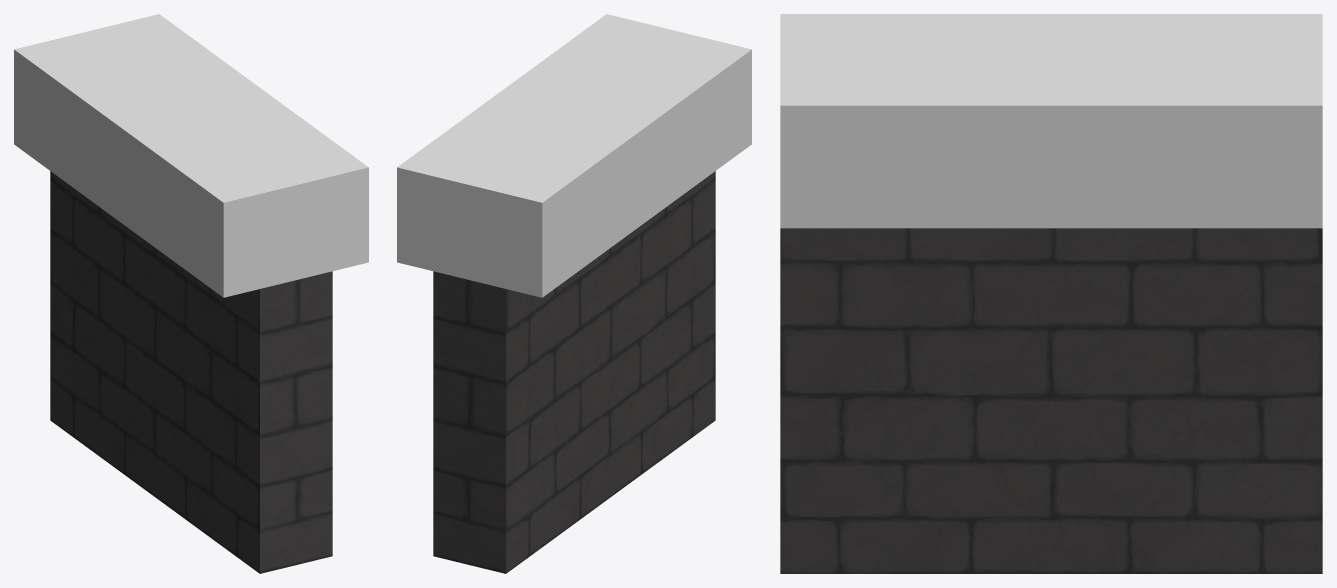
The model's file is Dungeon_Door.fbx.
3 views of the same model, side by side, from view 1: azimuth 30°, elevation 25°; view 2: azimuth 150°, elevation 25°; view 3: azimuth 270°, elevation 25° (orthographic). The views are drawn at different scales.
Parts seen in each view (by area): view 1: Cube.001; view 2: Cube.001; view 3: Cube.001.
Boxes of the visible parts, x1=… form: Cube.001: x1=14, y1=14, x2=368, y2=573; Cube.001: x1=397, y1=14, x2=751, y2=573; Cube.001: x1=780, y1=14, x2=1322, y2=573.
Bounding box in the file's own units: 80 × 200 × 200.
